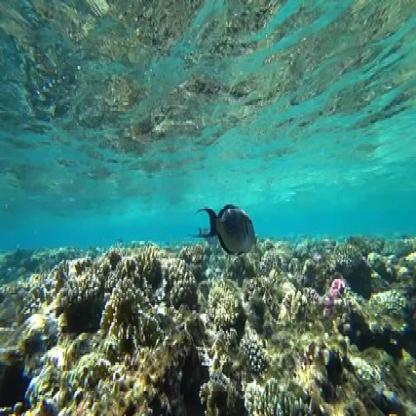Acanthuridae -Surgeonfishes-: (198, 199, 262, 261)
